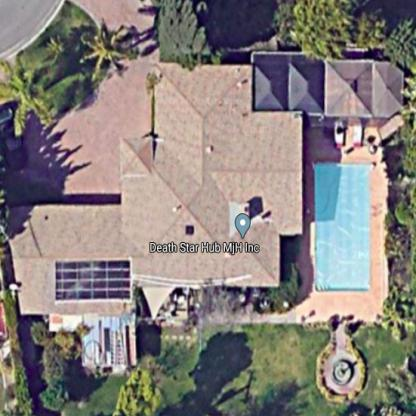solar_panel: (42, 250, 136, 306)
swimming_pool: (304, 146, 382, 301)
